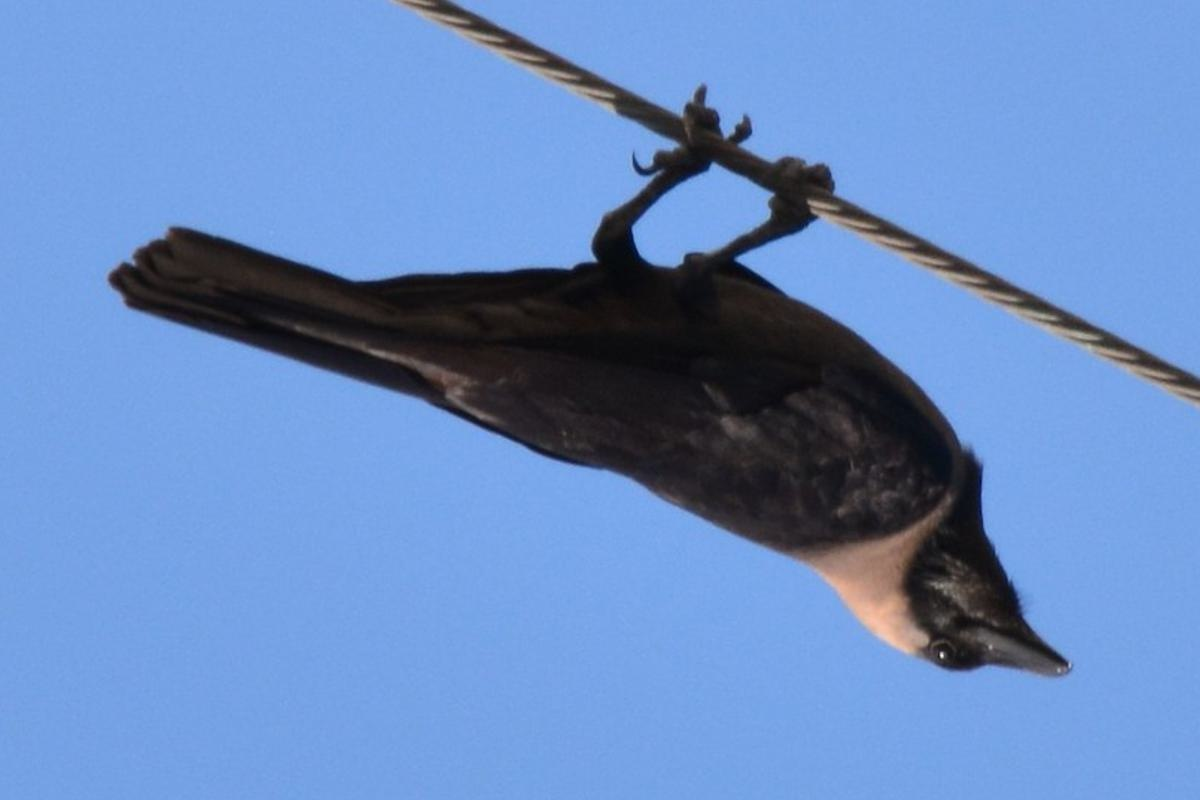crow: (119, 105, 1100, 692)
